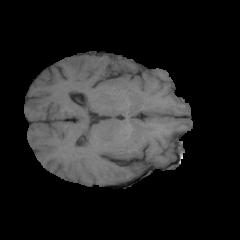glioma: (104, 55, 146, 89)
